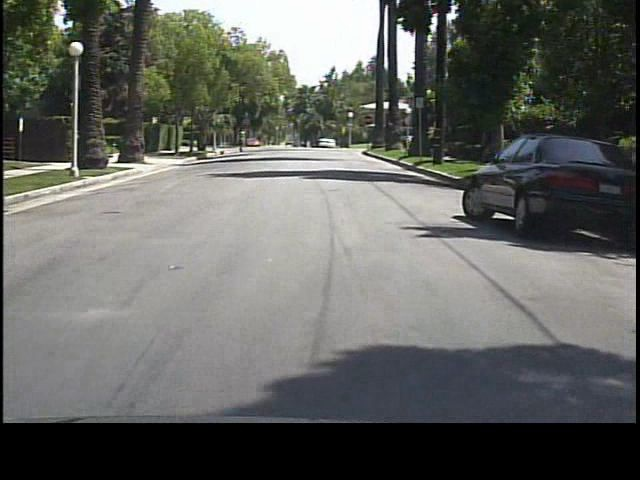person: (236, 128, 250, 158)
